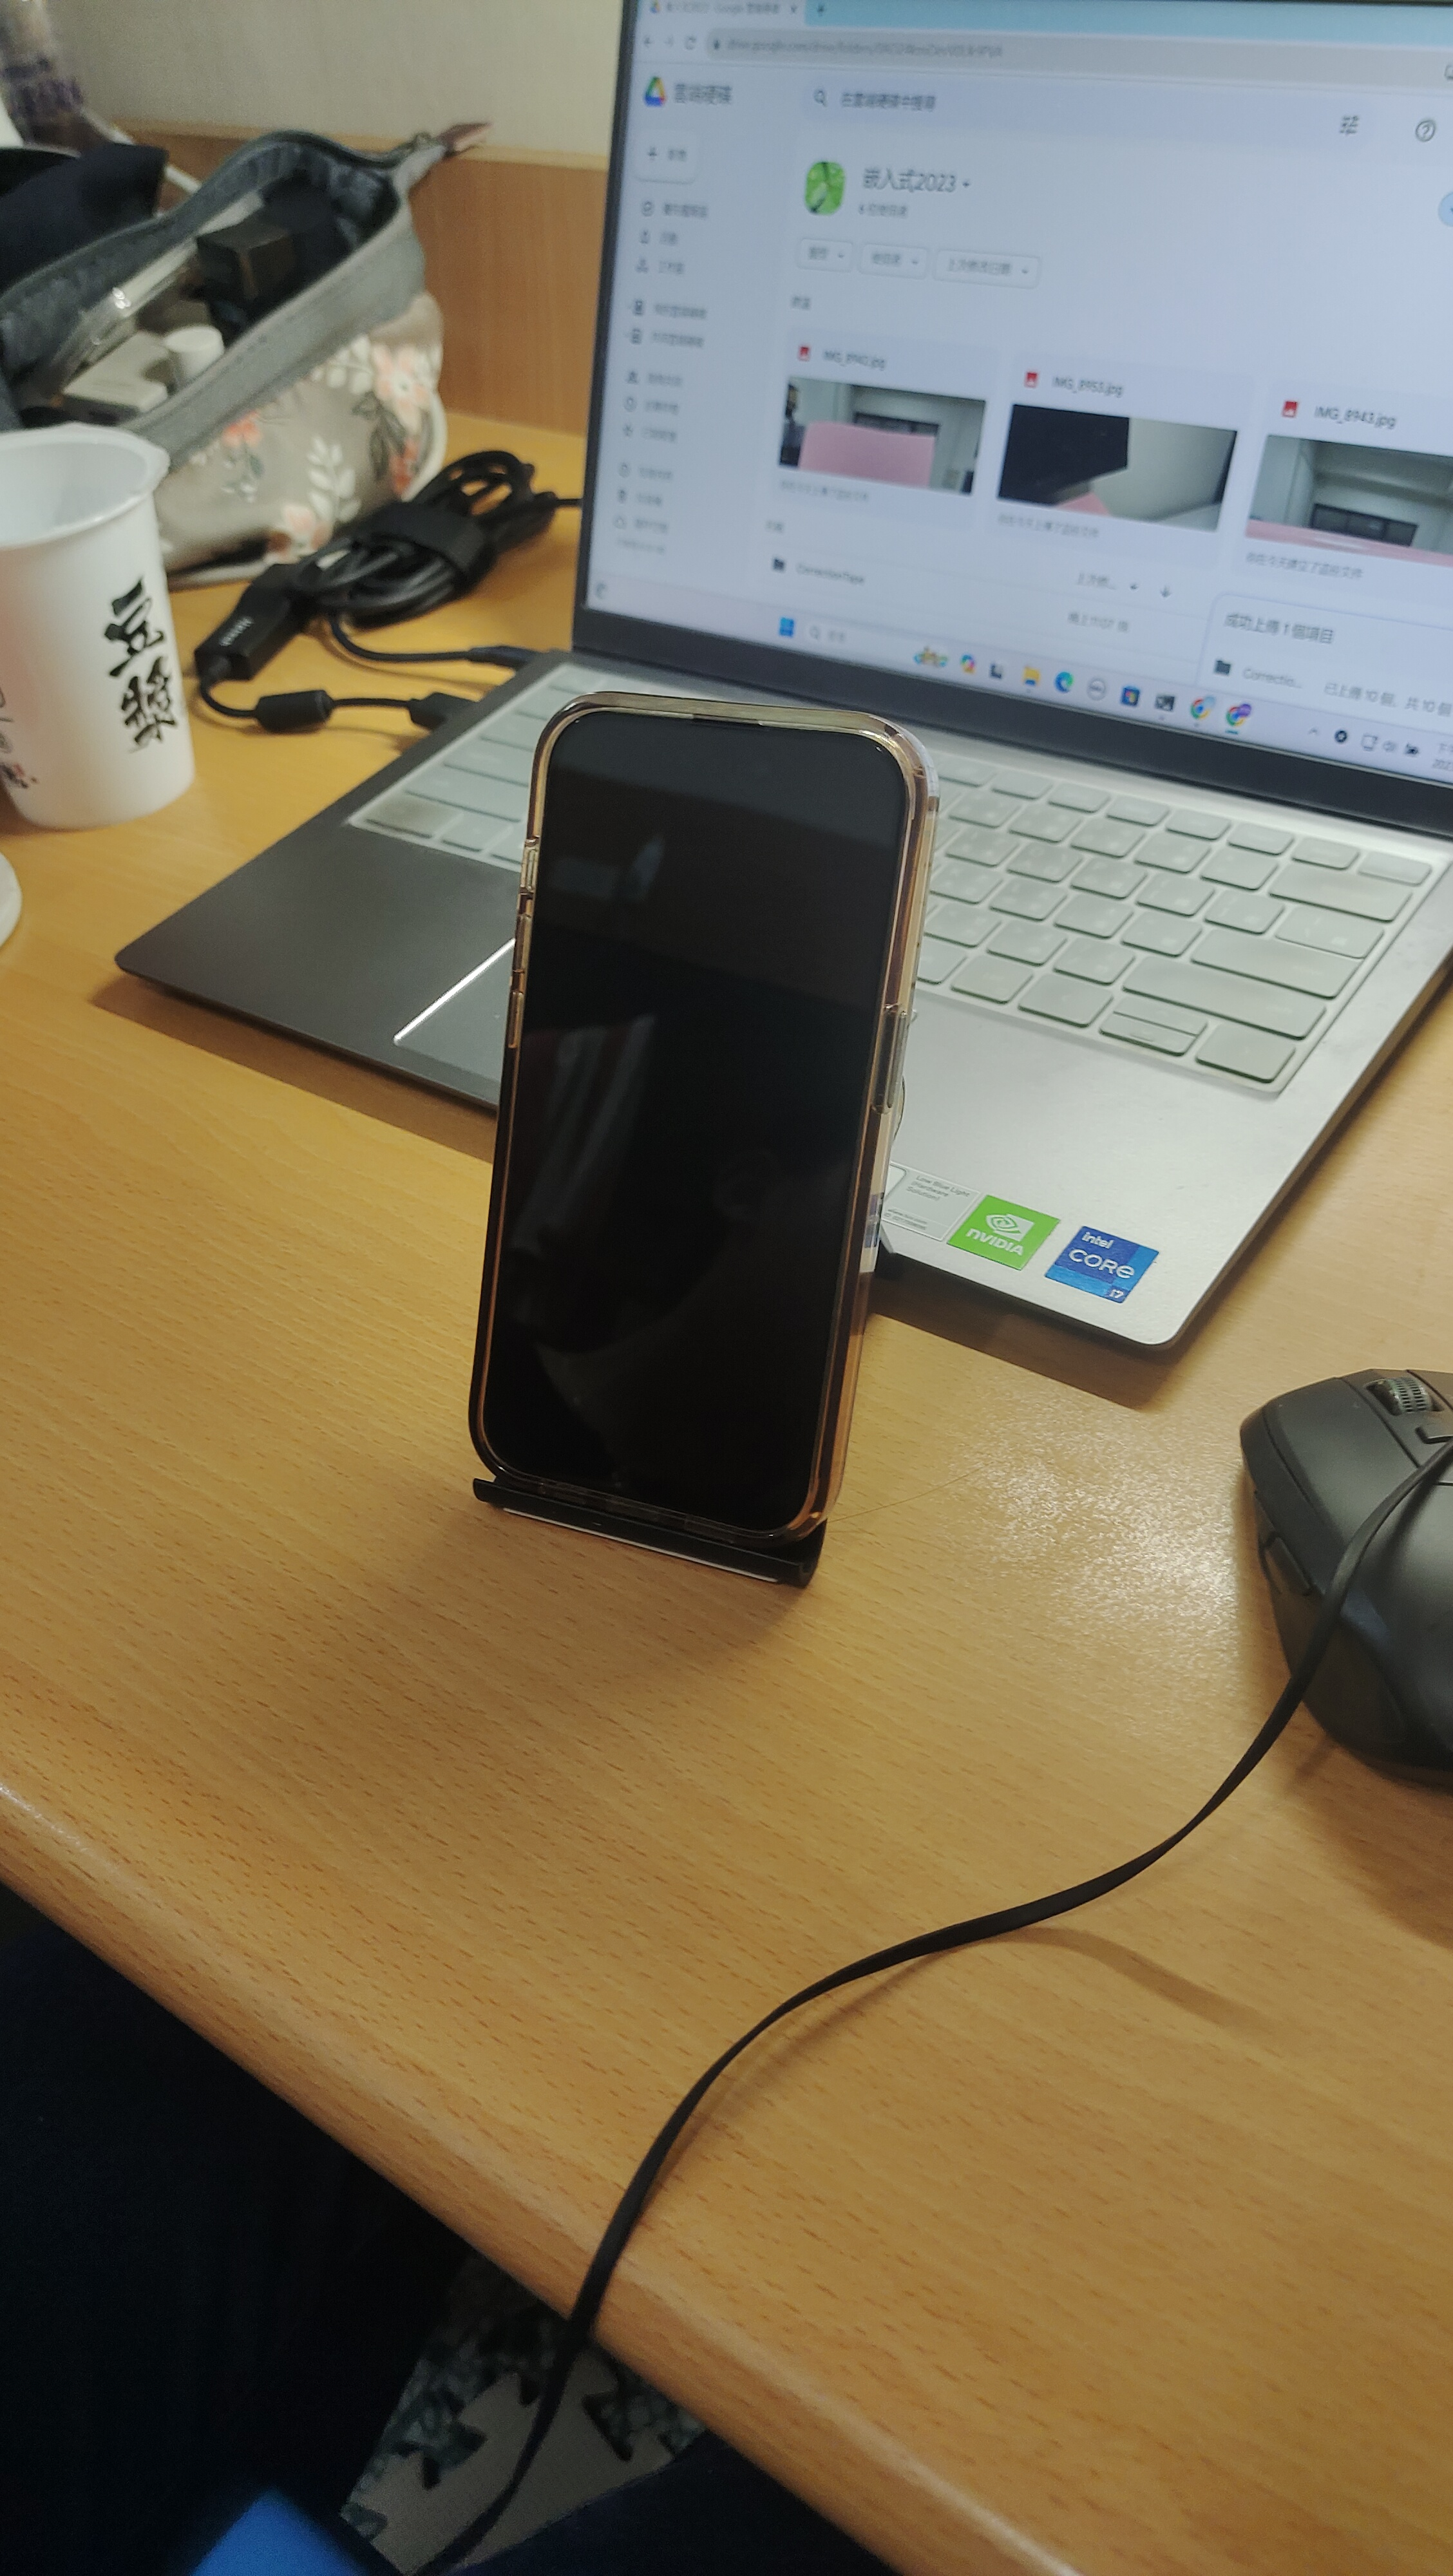iphone: (474, 688, 940, 1545)
